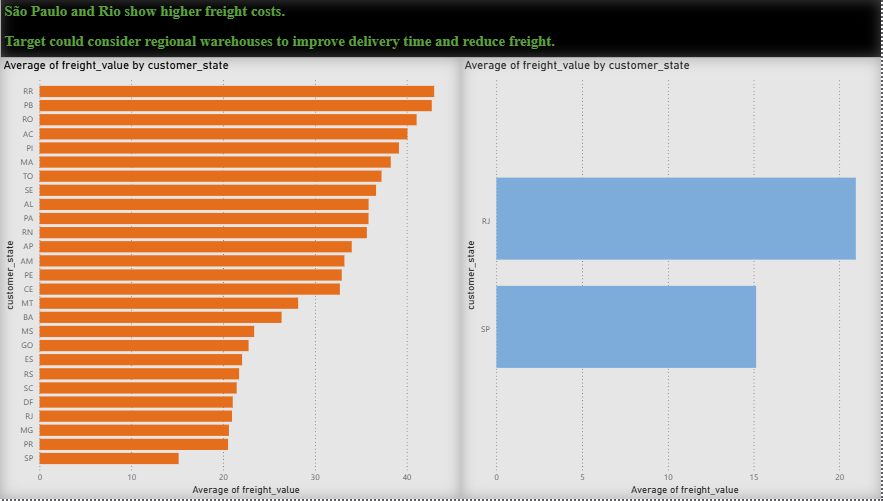

Layout of this report page (visuals, bound fields, positions):
{"tool":"powerbi","page":{"name":"Insights & Recommendations ","canvas":[1280,720],"ordinal":6},"visuals":[{"type":"textbox","box":[10.4,0,1269.6,84.9],"z":0},{"type":"clusteredBarChart","fields":{"Category":["customers.customer_state"],"Y":["Avg(order_items.freight_value)"]},"box":[10.1,85,663.8,635],"z":1000},{"type":"clusteredBarChart","fields":{"Category":["customers.customer_state"],"Y":["Avg(order_items.freight_value)"]},"box":[673.9,85,606.2,635],"z":2000}]}

Visuals, with their boxes in screenshot pixels (x1, y1, x2, y2), scaled from the page's 1280x720 canvas onto the 883x501 screenshot:
textbox: (left=7, top=0, right=882, bottom=59)
clusteredBarChart - customers.customer_state x Avg(order_items.freight_value): (left=7, top=59, right=465, bottom=500)
clusteredBarChart - customers.customer_state x Avg(order_items.freight_value): (left=465, top=59, right=882, bottom=500)
